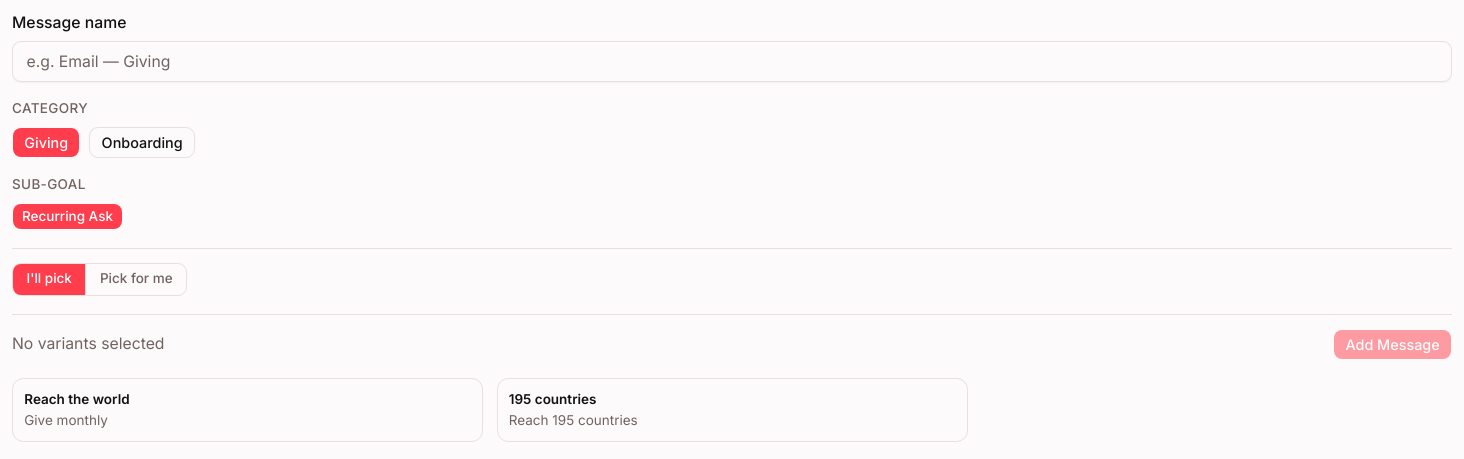
Scenario: LibraryPicker › switches categories and shows that category's variants
Click the button "Onboarding". click: (142, 142)
box: [89,127,195,158]
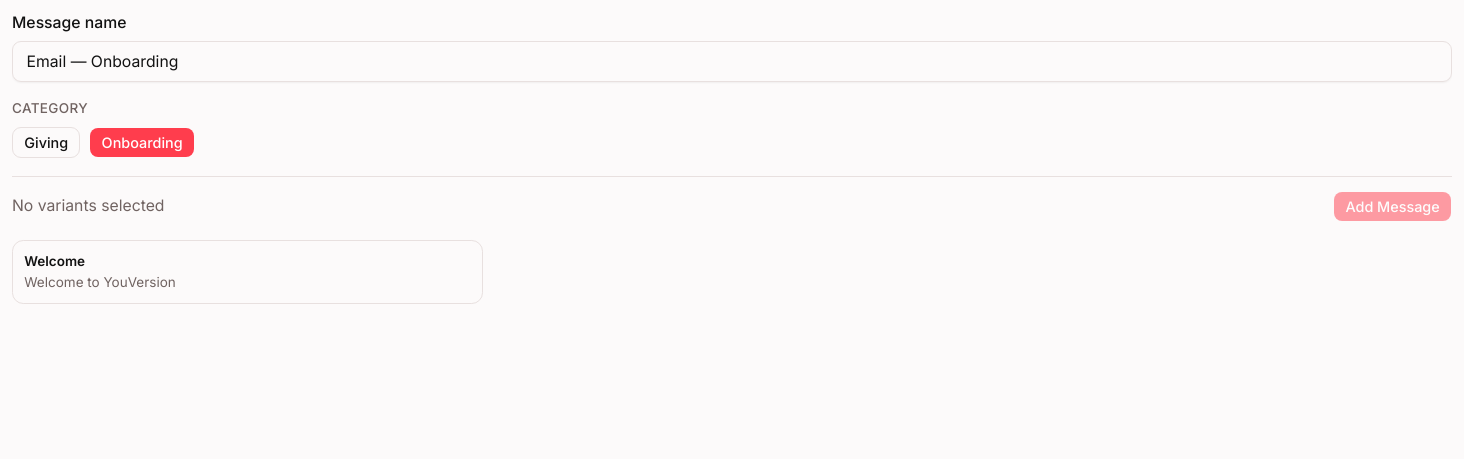
Check: the text "Welcome" is shown, box [24,254,85,270]
Check: the text "Reach the world" is gone
